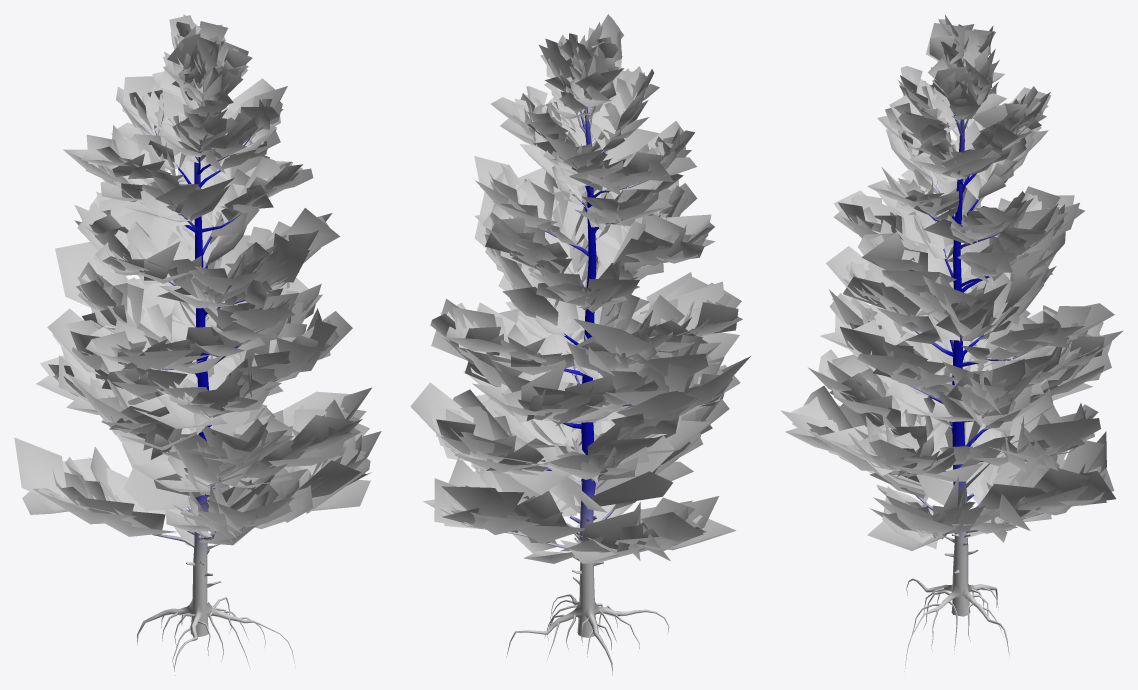
File: Pine_04_LOD1.fbx
3 views of the same model, side by side, from view 1: azimuth 30°, elevation 25°; view 2: azimuth 150°, elevation 25°; view 3: azimuth 270°, elevation 25° (orthographic). The views are drawn at different scales.
Visible parts, largest first — view 1: polySurface3064; view 2: polySurface3064; view 3: polySurface3064.
Boxes of the visible parts, box(x1,y1,x2,y2) form: polySurface3064: box(14, 14, 381, 675); polySurface3064: box(410, 14, 750, 674); polySurface3064: box(780, 15, 1122, 671).
Bounding box in the file's own units: 1138 × 2209 × 1101.
